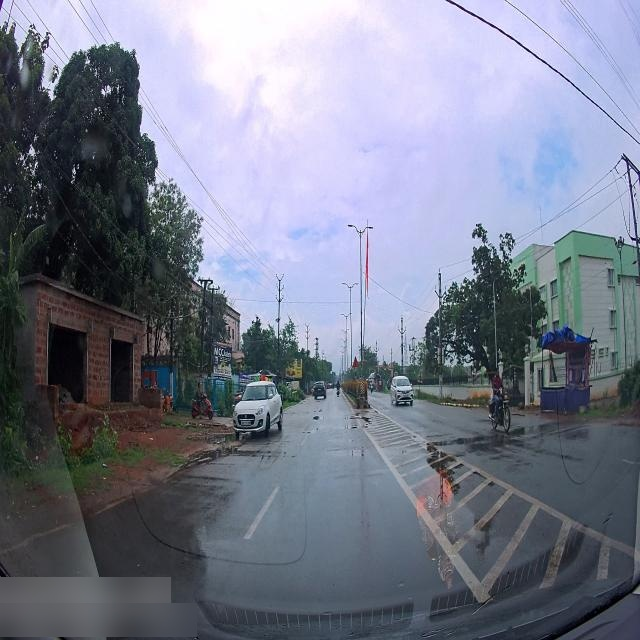pothole: (230, 441, 268, 462), (311, 412, 324, 425)
